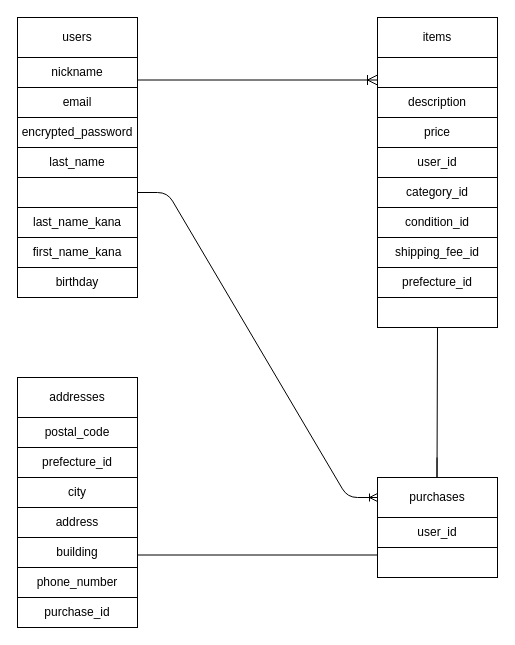
This 515x645 diagram has some shape labels left out. Each missing label, with the centre of its shape:
"first_name" belongs at pixel 77 192.
"item_id" belongs at pixel 437 562.
"name" belongs at pixel 437 72.
"shipping_day_id" belongs at pixel 437 312.
